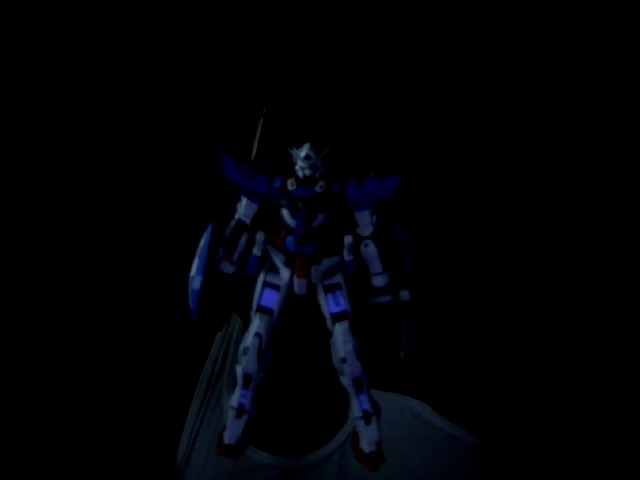Exia: (186, 142, 410, 472)
